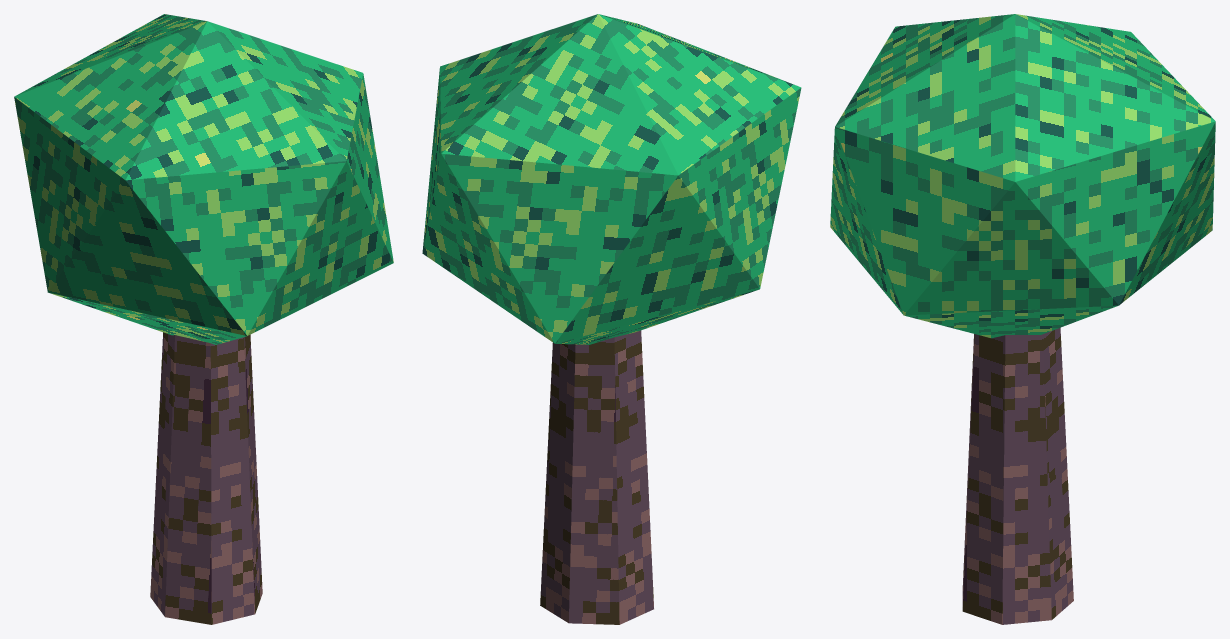
File: r01_arvore_cortavel.glb
3 views of the same model, side by side, from view 1: azimuth 30°, elevation 25°; view 2: azimuth 150°, elevation 25°; view 3: azimuth 270°, elevation 25° (orthographic).
Visible parts, largest first — view 1: r01_arvore_cortavel; view 2: r01_arvore_cortavel; view 3: r01_arvore_cortavel.
Part boxes in pixels (<box>): r01_arvore_cortavel: <box>14,14,393,624</box>; r01_arvore_cortavel: <box>422,14,801,624</box>; r01_arvore_cortavel: <box>830,14,1215,624</box>.
Size of the model in its own units: 1.89 by 3.32 by 1.98.
2 materials, 2 textured.
